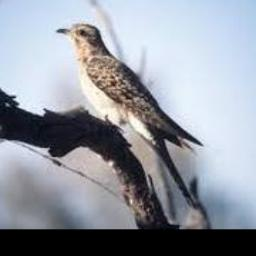Cuckoo: (57, 23, 203, 208)
